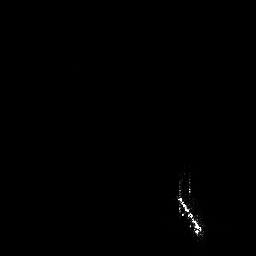ship: (176, 171, 204, 240)
